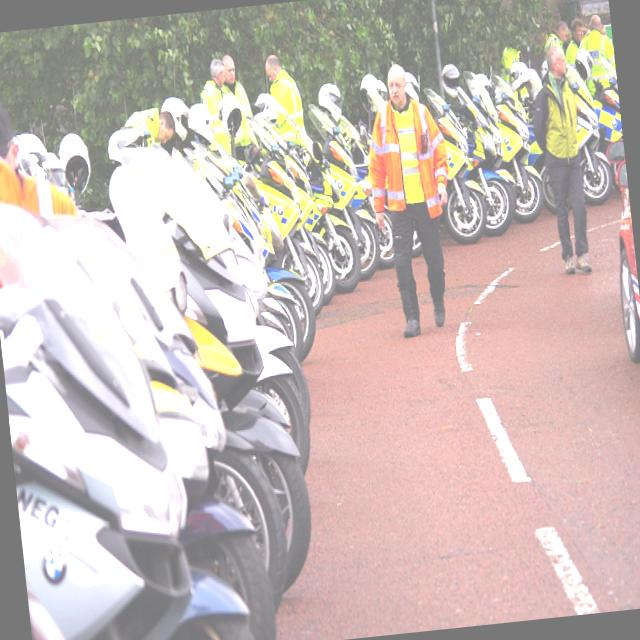Vehicle: (167, 53, 640, 480), (0, 198, 265, 640), (42, 192, 292, 625), (107, 156, 321, 599), (65, 217, 283, 640), (119, 122, 314, 442), (219, 83, 365, 300), (256, 82, 381, 286), (246, 162, 326, 322), (423, 80, 491, 248), (489, 66, 549, 219), (460, 96, 519, 236), (604, 156, 640, 366), (325, 116, 367, 179), (456, 86, 470, 107)
